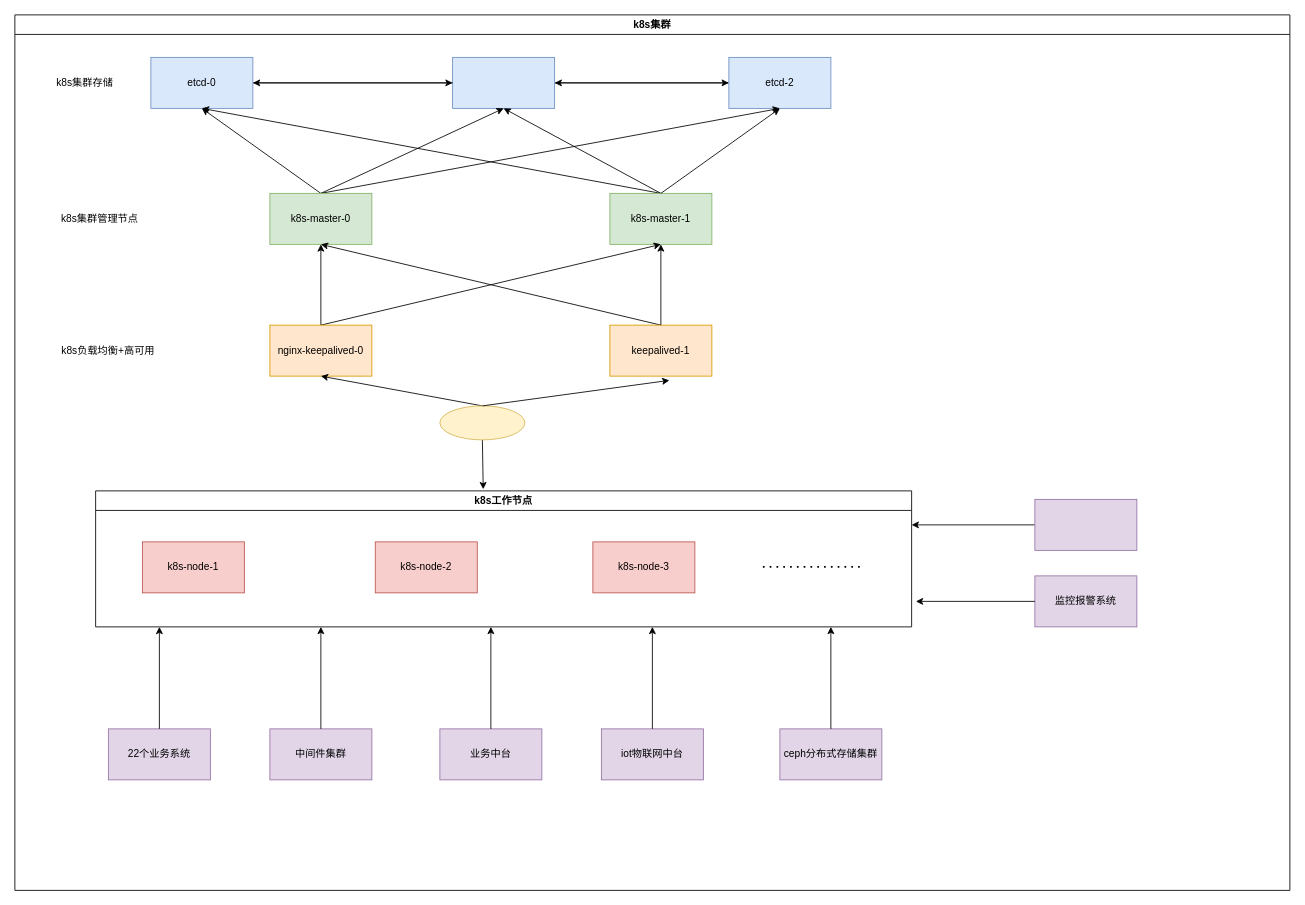
This 1305x905 diagram has some shape labels left out. Here are the shapes that lost their labels. From the top down, the centre of each, then its label:
the point at 503,82: etcd-1
the point at 482,422: VIP
the point at 1085,524: 日志系统
